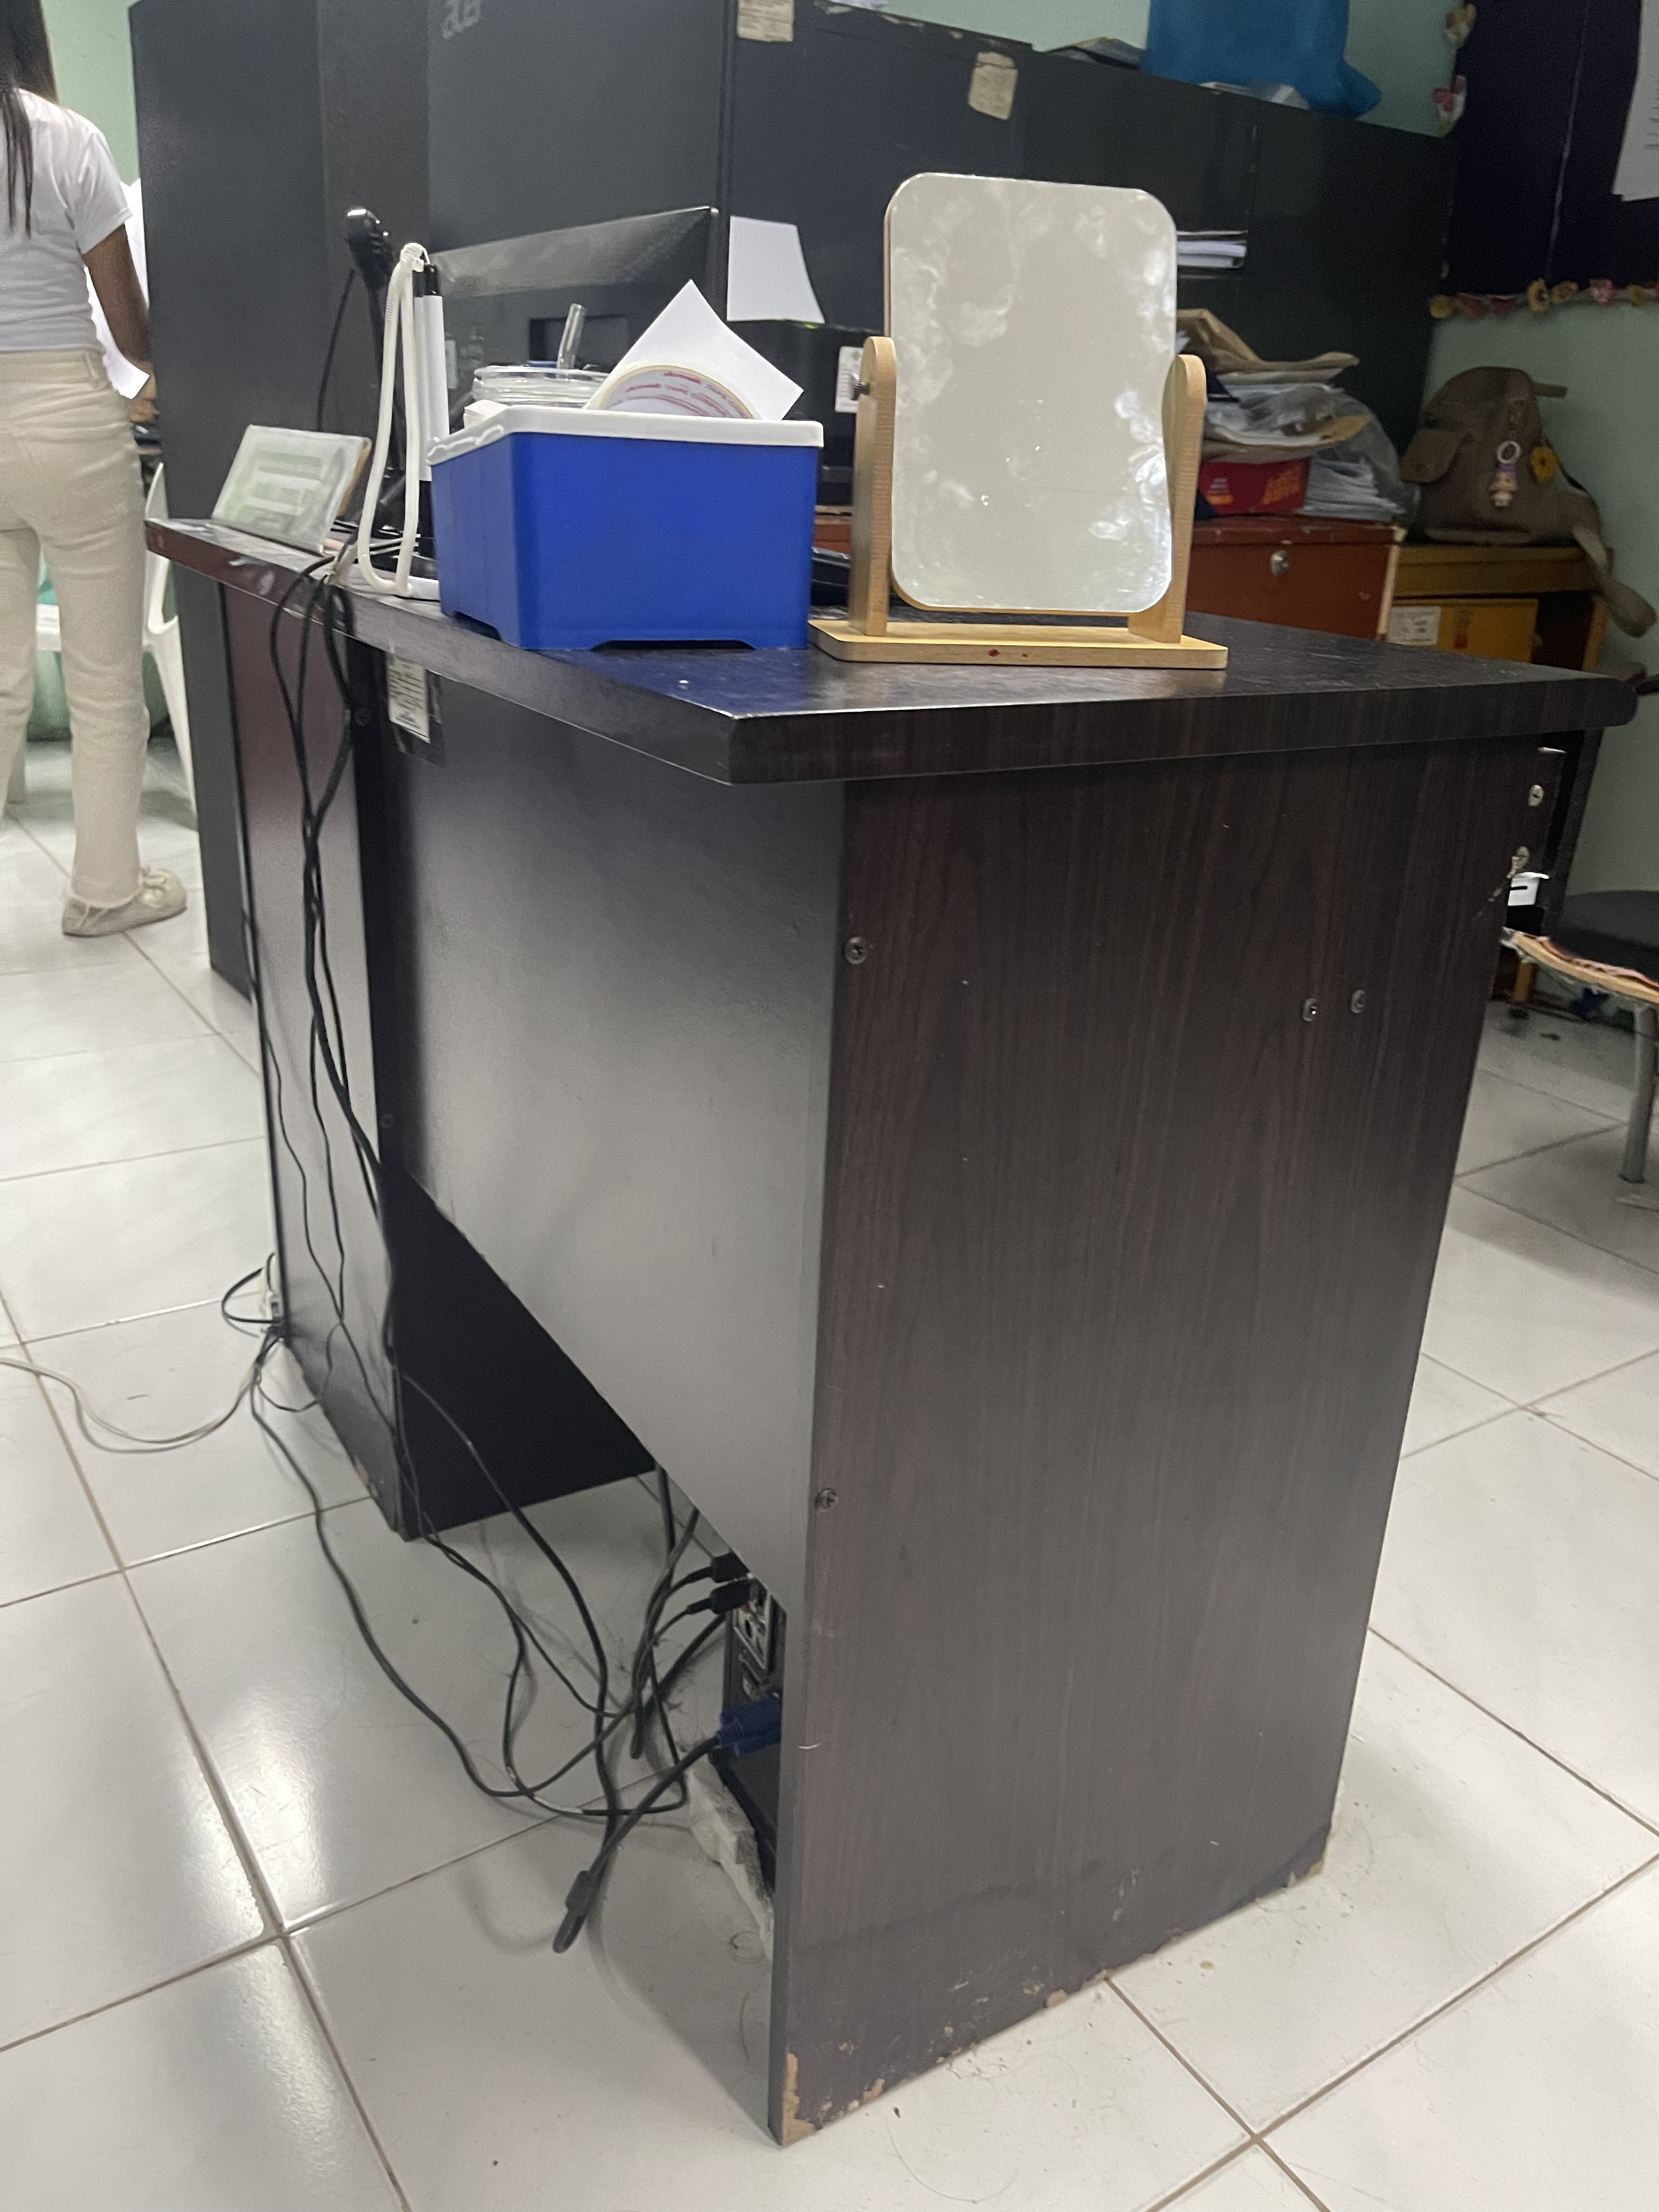table1: (138, 488, 1659, 2155)
